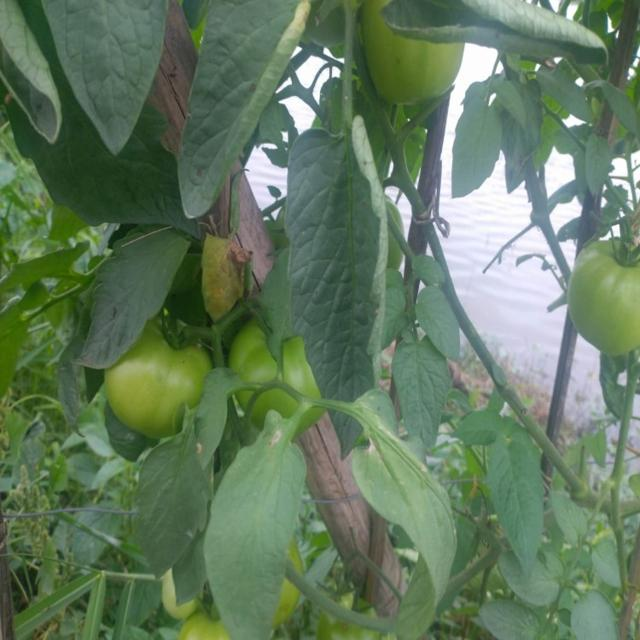tomato: (109, 326, 215, 435), (233, 318, 327, 437), (362, 6, 466, 99), (567, 238, 640, 355), (319, 589, 380, 638), (278, 541, 302, 629), (177, 611, 235, 640)
